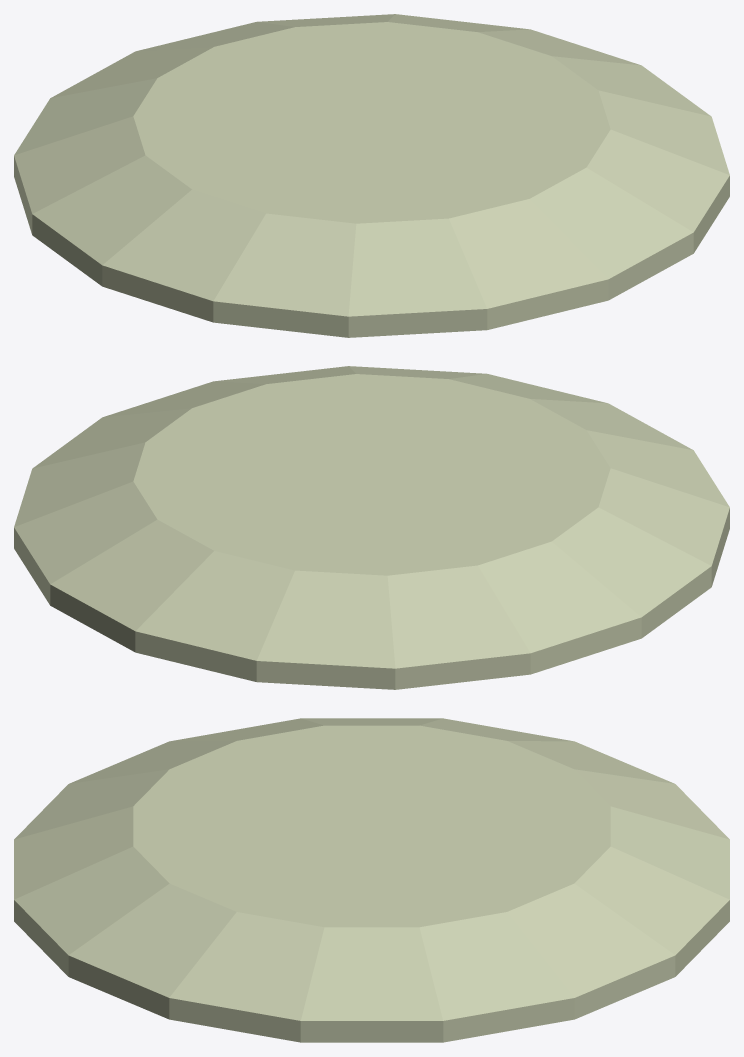
The model's file is aquila_adapter_s1p5_s1_1_collider.obj.
3 views of the same model, one above another, from view 1: azimuth 30°, elevation 25°; view 2: azimuth 150°, elevation 25°; view 3: azimuth 270°, elevation 25° (orthographic).
Parts seen in each view (by area): view 1: aquila_adapter_s1p5_s1_1_collider; view 2: aquila_adapter_s1p5_s1_1_collider; view 3: aquila_adapter_s1p5_s1_1_collider.
Part boxes in pixels (<box>): aquila_adapter_s1p5_s1_1_collider: <box>14,14,729,337</box>; aquila_adapter_s1p5_s1_1_collider: <box>14,366,729,689</box>; aquila_adapter_s1p5_s1_1_collider: <box>14,718,729,1042</box>.
Size of the model in its own units: 1.88 by 0.1875 by 1.88.
